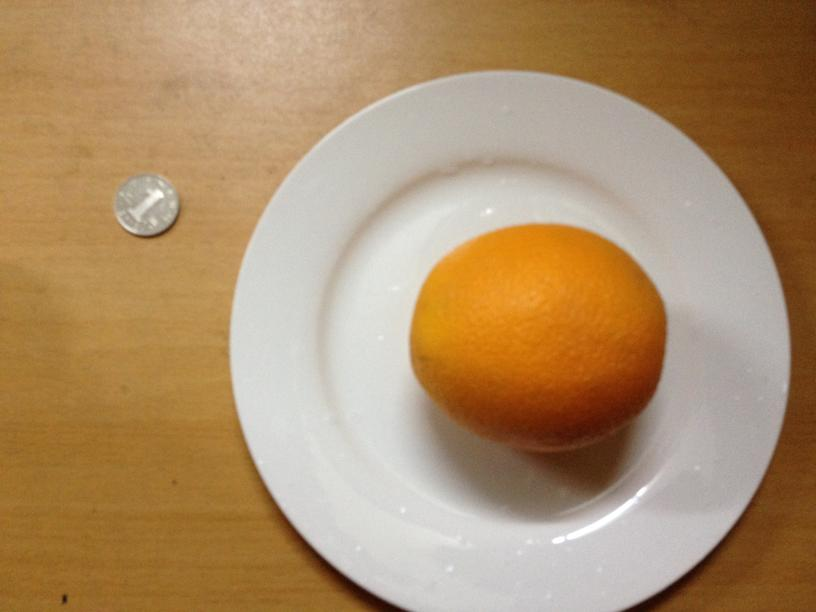coin: (115, 173, 179, 238)
orange: (401, 224, 664, 450)
